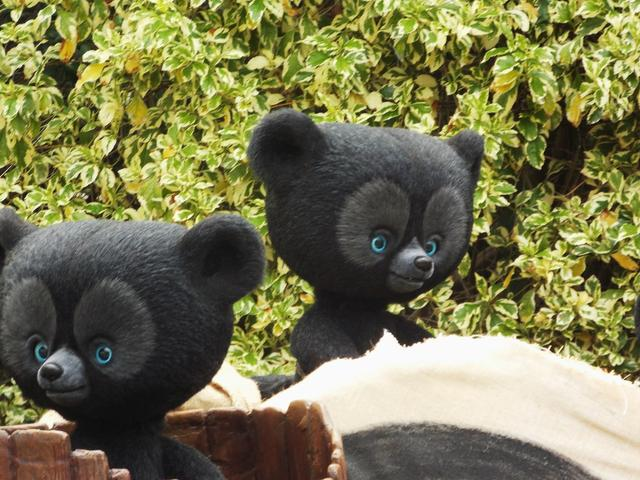Bear: (248, 99, 482, 372), (6, 204, 246, 459)
